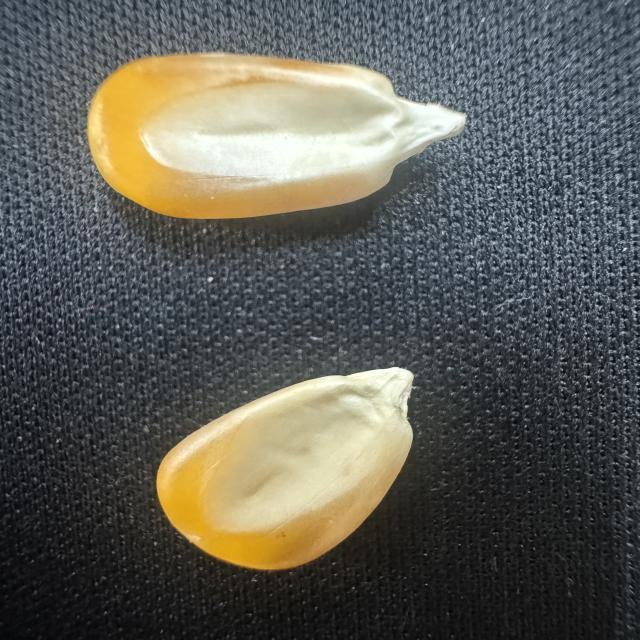Good-Seed: (84, 45, 474, 223), (151, 364, 422, 573)
